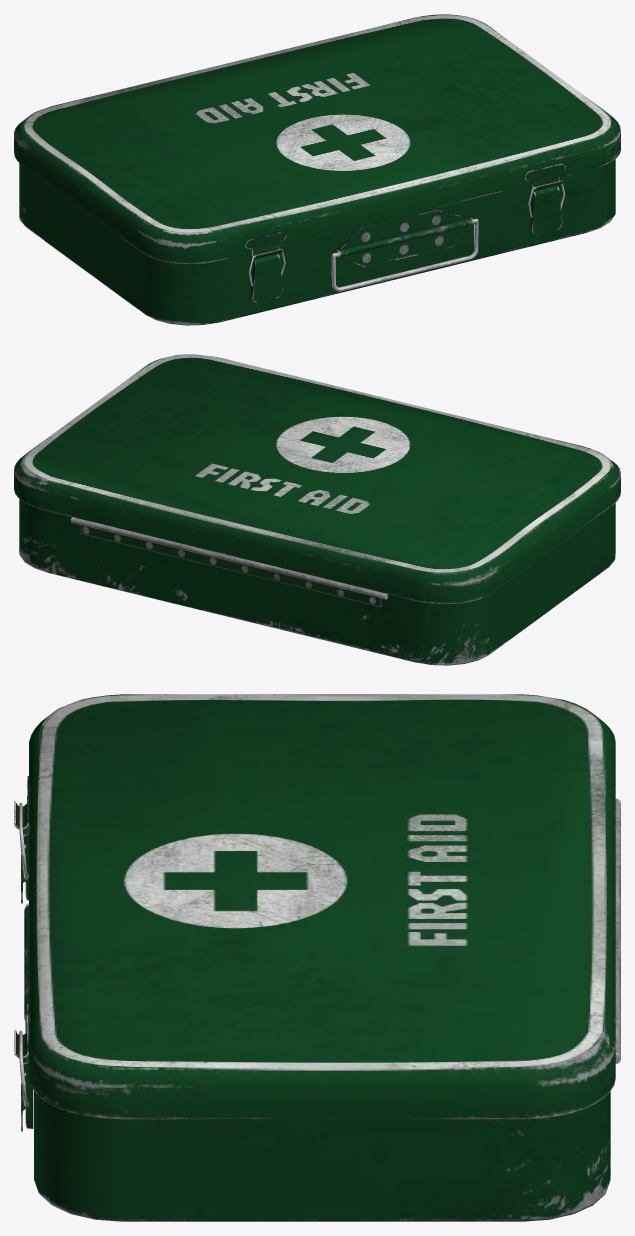
File: medical_box.glb
The picture shows the model from 3 angles, top to bottom: view 1: azimuth 30°, elevation 25°; view 2: azimuth 150°, elevation 25°; view 3: azimuth 270°, elevation 25°; orthographic projection. The views are drawn at different scales.
Visible parts, largest first — view 1: medical_box_latch; view 2: medical_box_latch; view 3: medical_box_latch.
Boxes of the visible parts, <box> form: medical_box_latch: <box>14,14,620,325</box>; medical_box_latch: <box>14,354,620,665</box>; medical_box_latch: <box>14,694,620,1221</box>.
Size of the model in its own units: 0.5255 by 0.0975 by 0.3501.
Materials: 1 (1 with a texture image).
